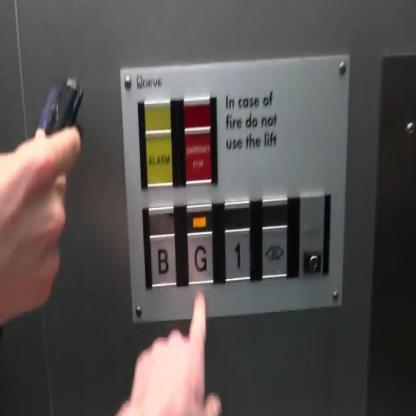1: (222, 223, 252, 283)
B: (148, 229, 178, 289)
G: (185, 227, 215, 288)
open: (259, 222, 289, 282)
text: (182, 122, 214, 189), (143, 126, 174, 188)
